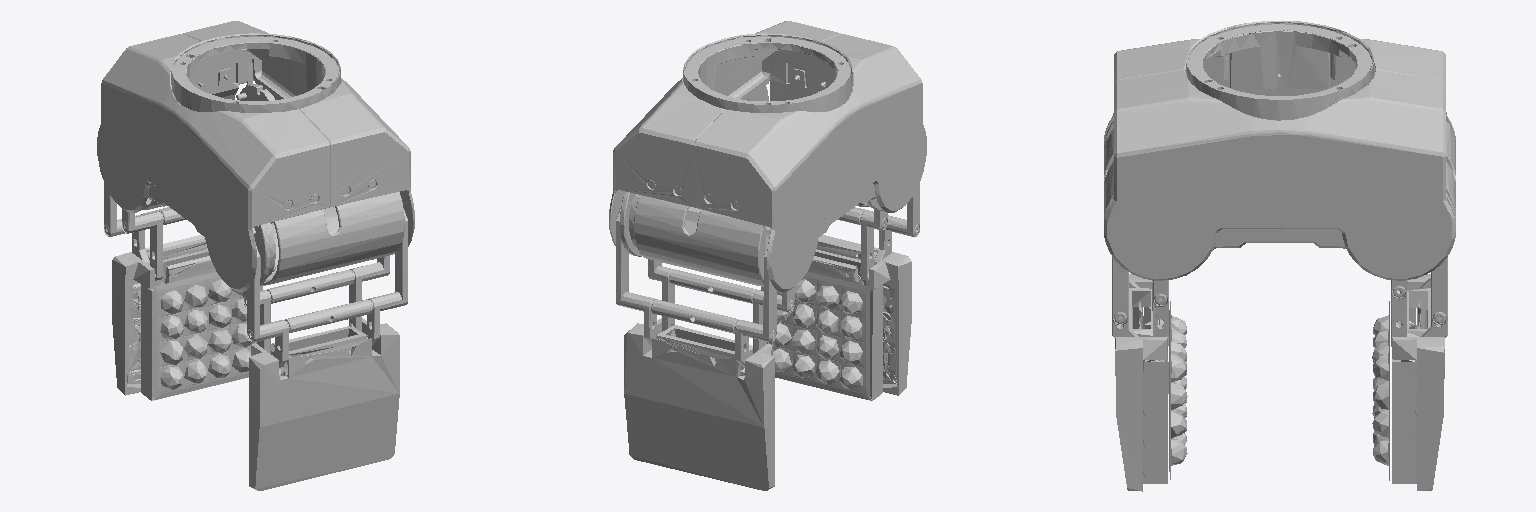
robot.urdf — h5:
<robot name="h5">
    <material name="default">
        <color rgba="0.8 0.8 0.8 1.0"/>
    </material>

    <link name="base_link">
        <inertial>
            <mass value="0.32908300000000001"/>
            <origin rpy="0 0 0" xyz="-0.000001 0.000038 -0.032103"/>
            <inertia ixx="0.00041124" iyy="0.000150111" izz="0.00044493100000000003" ixy="5.7588800000000003e-06" ixz="0" iyz="0"/>
        </inertial>

        <collision name="h5_collision">
            <origin rpy="0.000000 -0.000000 0.000000" xyz="0.000000 0.000000 -0.015"/>
            <geometry>
                <box size="0.052000 0.100000 0.020000"/>
            </geometry>
        </collision>
        <collision name="h5_collision">
            <origin rpy="0.000000 -0.000000 0.000000" xyz="0.000000 0.000000 -0.0325000"/>
            <geometry>
                <box size="0.062000 0.100000 0.030000"/>
            </geometry>
        </collision>
        <collision name="h5_collision">
            <origin rpy="0.0 0.0 0.0" xyz="0.0 0.0 -0.005"/>
            <geometry>
                <cylinder radius="0.028" length="0.01" />
            </geometry>
        </collision>
        <collision name="h5_collision">
            <origin rpy="-1.570796 0.000000 1.570796" xyz="0.0 -0.0355 -0.0405"/>
            <geometry>
                <cylinder radius="0.016" length="0.062" />
            </geometry>
        </collision>
        <collision name="h5_collision">
            <origin rpy="-1.570796 0.000000 1.570796" xyz="0.0 +0.0355 -0.0405"/>
            <geometry>
                <cylinder radius="0.016" length="0.062" />
            </geometry>
        </collision>

        <!--
        <visual name="h5_visual">
            <origin rpy="0.000000 -0.000000 0.000000" xyz="0.000000 0.000000 -0.015"/>
            <geometry>
                <box size="0.052000 0.100000 0.020000"/>
            </geometry>
            d<material name="default" />
        </visual>
        <visual name="h5_visual">
            <origin rpy="0.000000 -0.000000 0.000000" xyz="0.000000 0.000000 -0.0325000"/>
            <geometry>
                <box size="0.062000 0.100000 0.030000"/>
            </geometry>
            <material name="default" />
        </visual>
        <visual name="h5_visual">
            <origin rpy="0.0 0.0 0.0" xyz="0.0 0.0 -0.005"/>
            <geometry>
                <cylinder radius="0.028" length="0.01" />
            </geometry>
            <material name="default" />
        </visual>
        <visual name="h5_visual">
            <origin rpy="-1.570796 0.000000 1.570796" xyz="0.0 -0.0355 -0.0405"/>
            <geometry>
                <cylinder radius="0.016" length="0.062" />
            </geometry>
            <material name="default" />
        </visual>
        <visual name="h5_visual">
            <origin rpy="-1.570796 0.000000 1.570796" xyz="0.0 +0.0355 -0.0405"/>
            <geometry>
                <cylinder radius="0.016" length="0.062" />
            </geometry>
            <material name="default" />
        </visual>
        -->
 
        <visual name="h5_visual_1">
            <origin rpy="0.000000 -0.000000 0.000000" xyz="0.000000 0.000000 0.000000"/>
            <geometry>
                <mesh filename="./meshes/base.stl" scale="1 1 1"/>
            </geometry>
            <material name="default" />
        </visual>

    </link>
    <joint name="left_link_joint" type="revolute">
        <parent link="base_link"/>
        <child link="left_link_link"/>
        <axis xyz="1.000000 0.000000 0.000000"/>
        <limit effort="10000" velocity="10000" lower="-1.3788101090755203" upper="0.87266462599716477"/>
        <origin rpy="0 -0 0" xyz="-0.021500 -0.035500 -0.040500"/>
    </joint>
    <link name="left_link_link">
        <inertial>
            <mass value="0.016848999999999999"/>
            <origin rpy="0 0 0" xyz="0.016570 -0.004451 -0.017355"/>
            <inertia ixx="4.3095500000000001e-06" iyy="1.0579499999999999e-05" izz="8.1009200000000004e-06" ixy="0" ixz="1.79745e-06" iyz="0"/>
        </inertial>

        <collision name="h5_collision_1">
            <origin rpy="1.570796 0.000000 0.000000" xyz="0.021500 -0.0060000 -0.024000"/>
            <geometry>
                <box size="0.060000 0.040000 0.0180000"/>
            </geometry>
        </collision>

        <!--
        <visual name="h5_visual_1">
            <origin rpy="1.570796 0.000000 0.000000" xyz="0.021500 -0.0060000 -0.024000"/>
            <geometry>
                <box size="0.060000 0.040000 0.0180000"/>
            </geometry>
            <material name="default" />
        </visual>
        -->

        <visual name="h5_visual_2">
            <origin rpy="0.000000 -0.000000 0.000000" xyz="0.000000 0.000000 0.000000"/>
            <geometry>
                <mesh filename="./meshes/left_link.stl" scale="1 1 1"/>
            </geometry>
            <material name="default" />
        </visual>

    </link>
    <joint name="left_tip_joint" type="revolute">
        <parent link="left_link_link"/>
        <child link="left_tip_link"/>
        <axis xyz="1.000000 0.000000 0.000000"/>
        <limit effort="10000" velocity="10000" lower="-0.87266462599716477" upper="1.3788101090755203"/>
        <origin rpy="0 -0 0" xyz="0.021500 0.000000 -0.043000"/>
        <mimic joint="left_link_joint" multiplier="-1" offset="0"/>
    </joint>
    <link name="left_tip_link">
        <inertial>
            <mass value="0.046234999999999998"/>
            <origin rpy="0 0 0" xyz="0.000003 -0.038401 -0.083889"/>
            <inertia ixx="9.8584099999999993e-06" iyy="1.7064199999999998e-05" izz="1.00253e-05" ixy="0" ixz="0" iyz="0"/>
        </inertial>

        <collision name="h5_collision">
            <origin rpy="-1.570796 0.000000 1.570796" xyz="0.000000 0.000000 0.000000"/>
            <geometry>
                <cylinder radius="0.0032" length="0.044" />
            </geometry>
        </collision>
        <collision name="h5_collision_1">
            <origin rpy="1.570796 0.000000 0.000000" xyz="0.000000 0.000000 -0.025000"/>
            <geometry>
                <box size="0.041000 0.041000 0.010000"/>
            </geometry>
        </collision>
        <collision name="h5_collision_1">
            <origin rpy="1.570796 0.000000 0.000000" xyz="0.000000 -0.009 -0.021500"/>
            <geometry>
                <box size="0.054000 0.048000 0.008000"/>
            </geometry>
        </collision>

        <!--
        <visual name="h5_visual">
            <origin rpy="-1.570796 0.000000 1.570796" xyz="0.000000 0.000000 0.000000"/>
            <geometry>
                <cylinder radius="0.0032" length="0.044" />
            </geometry>
            <material name="default" />
        </visual>
        <visual name="h5_visual_1">
            <origin rpy="1.570796 0.000000 0.000000" xyz="0.000000 0.000000 -0.025000"/>
            <geometry>
                <box size="0.041000 0.041000 0.010000"/>
            </geometry>
            <material name="default" />
        </visual>
        <visual name="h5_visual_1">
            <origin rpy="1.570796 0.000000 0.000000" xyz="0.000000 -0.009 -0.021500"/>
            <geometry>
                <box size="0.054000 0.048000 0.008000"/>
            </geometry>
            <material name="default" />
        </visual>
        -->

        <visual name="h5_visual_2">
            <origin rpy="0.000000 -0.000000 0.000000" xyz="0.000000 0.000000 0.000000"/>
            <geometry>
                <mesh filename="./meshes/left_tip.stl" scale="1 1 1"/>
            </geometry>
            <material name="default" />
        </visual>

    </link>
    <joint name="right_link_joint" type="revolute">
        <parent link="base_link"/>
        <child link="right_link_link"/>
        <axis xyz="1.000000 0.000000 0.000000"/>
        <limit effort="10000" velocity="10000" lower="-0.87266462599716477" upper="1.3788101090755203"/>
        <origin rpy="0 -0 0" xyz="0.021500 0.035500 -0.040500"/>
    </joint>
    <link name="right_link_link">
        <inertial>
            <mass value="0.016848999999999999"/>
            <origin rpy="0 0 0" xyz="-0.016570 0.004451 -0.017355"/>
            <inertia ixx="4.3095500000000001e-06" iyy="1.0579499999999999e-05" izz="8.1009200000000004e-06" ixy="0" ixz="0" iyz="0"/>
        </inertial>

        <collision name="h5_collision_1">
            <origin rpy="1.570796 0.000000 0.000000" xyz="-0.021500 0.0060000 -0.024000"/>
            <geometry>
                <box size="0.060000 0.040000 0.0180000"/>
            </geometry>
        </collision>

        <!--
        <visual name="h5_visual_1">
            <origin rpy="1.570796 0.000000 0.000000" xyz="-0.021500 0.0060000 -0.024000"/>
            <geometry>
                <box size="0.060000 0.040000 0.0180000"/>
            </geometry>
            <material name="default" />
        </visual>
        -->

        <visual name="h5_visual_2">
            <origin rpy="0.000000 -0.000000 3.14159" xyz="0.000000 0.000000 0.000000"/>
            <geometry>
                <mesh filename="./meshes/left_link.stl" scale="1 1 1"/>
            </geometry>
            <material name="default" />
        </visual>

    </link>
    <joint name="right_tip_joint" type="revolute">
        <parent link="right_link_link"/>
        <child link="right_tip_link"/>
        <axis xyz="1.000000 0.000000 0.000000"/>
        <limit effort="10000" velocity="10000" lower="-1.3788101090755203" upper="0.87266462599716477"/>
        <origin rpy="0 -0 0" xyz="-0.021500 0.000000 -0.043000"/>
        <mimic joint="right_link_joint" multiplier="-1" offset="0"/>
    </joint>
    <link name="right_tip_link">
        <inertial>
            <mass value="0.046234999999999998"/>
            <origin rpy="0 0 0" xyz="-0.000003 0.038401 -0.083889"/>
            <inertia ixx="9.8584099999999993e-06" iyy="1.7064199999999998e-05" izz="1.00253e-05" ixy="0" ixz="0" iyz="0"/>
        </inertial>

        <collision name="h5_collision">
            <origin rpy="-1.570796 0.000000 1.570796" xyz="0.000000 0.000000 0.000000"/>
            <geometry>
                <cylinder radius="0.0032" length="0.044" />
            </geometry>
        </collision>
        <collision name="h5_collision_1">
            <origin rpy="1.570796 0.000000 0.000000" xyz="0.000000 0.000000 -0.025000"/>
            <geometry>
                <box size="0.041000 0.041000 0.010000"/>
            </geometry>
        </collision>
        <collision name="h5_collision_1">
            <origin rpy="1.570796 0.000000 0.000000" xyz="0.000000 0.009 -0.021500"/>
            <geometry>
                <box size="0.054000 0.048000 0.008000"/>
            </geometry>
        </collision>

        <!--
        <visual name="h5_visual">
            <origin rpy="-1.570796 0.000000 1.570796" xyz="0.000000 0.000000 0.000000"/>
            <geometry>
                <cylinder radius="0.0032" length="0.044" />
            </geometry>
            <material name="default" />
        </visual>
        <visual name="h5_visual_1">
            <origin rpy="1.570796 0.000000 0.000000" xyz="0.000000 0.000000 -0.025000"/>
            <geometry>
                <box size="0.041000 0.041000 0.010000"/>
            </geometry>
            <material name="default" />
        </visual>
        <visual name="h5_visual_1">
            <origin rpy="1.570796 0.000000 0.000000" xyz="0.000000 0.009 -0.021500"/>
            <geometry>
                <box size="0.054000 0.048000 0.008000"/>
            </geometry>
            <material name="default" />
        </visual>
        -->

        <visual name="h5_visual_2">
            <origin rpy="0.000000 -0.000000 3.14159" xyz="0.000000 0.000000 0.000000"/>
            <geometry>
                <mesh filename="./meshes/left_tip.stl" scale="1 1 1"/>
            </geometry>
            <material name="default" />
        </visual>

    </link>
</robot>

--- What the picture shows (computed from the rendered views, not written in the file) ---
Views: 3 orthographic renders of the robot side by side, from view 1: azimuth 30°, elevation 25°; view 2: azimuth 150°, elevation 25°; view 3: azimuth 270°, elevation 25°.
Robot: h5 — 5 links, 4 joints (4 revolute); root link base_link; default pose: all joints at 0.
Visible links, largest first — view 1: base_link, left_tip_link, right_tip_link, left_link_link, right_link_link; view 2: base_link, right_tip_link, left_tip_link, right_link_link, left_link_link; view 3: base_link, left_tip_link, right_tip_link, left_link_link, right_link_link.
Boxes of the visible links, x1,y1,x2,y2 form: base_link: [97, 21, 414, 291]; left_tip_link: [249, 318, 399, 490]; right_tip_link: [112, 235, 262, 400]; left_link_link: [243, 208, 407, 367]; right_link_link: [104, 84, 274, 280]; base_link: [609, 21, 926, 291]; right_tip_link: [624, 318, 774, 490]; left_tip_link: [761, 235, 911, 400]; right_link_link: [616, 194, 794, 367]; left_link_link: [838, 183, 919, 280]; base_link: [1104, 20, 1455, 280]; left_tip_link: [1115, 274, 1187, 491]; right_tip_link: [1372, 274, 1444, 490]; left_link_link: [1112, 160, 1168, 345]; right_link_link: [1391, 257, 1447, 346].
Bounding box of the posed robot: 0.062 × 0.1051 × 0.13 m (x, y, z).
Meshes: 3 distinct files referenced, 5 mesh visuals loaded (3 binary STL).